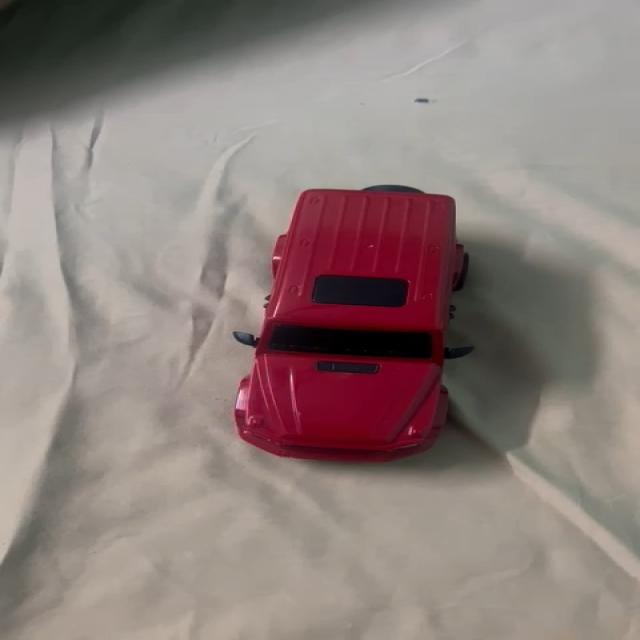light_vehicle: (216, 182, 473, 448)
